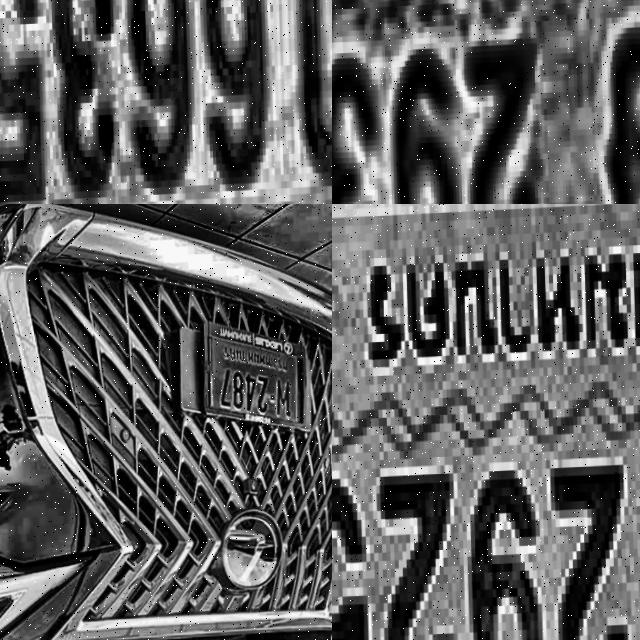license-plate: (332, 204, 640, 640), (0, 0, 332, 204), (332, 0, 640, 204), (194, 313, 310, 441)
